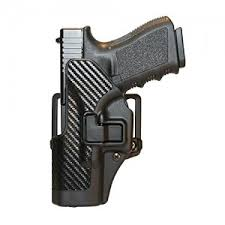gun: (48, 15, 189, 213)
